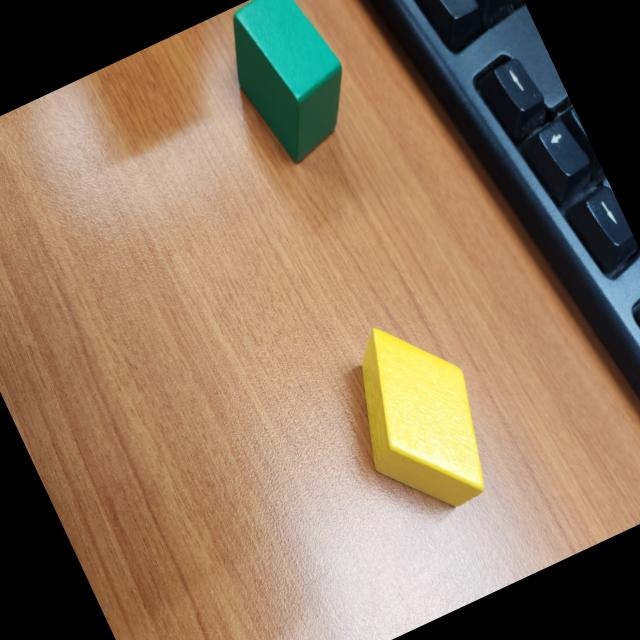green: (233, 0, 341, 162)
yellow: (360, 328, 483, 508)
